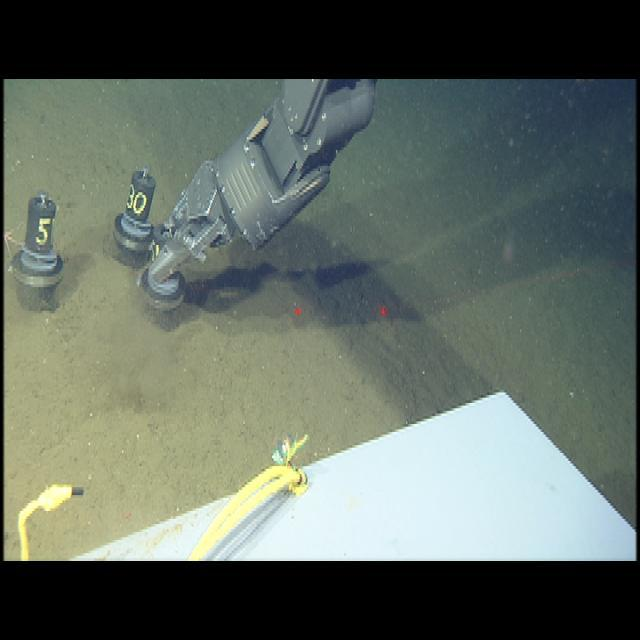Brittle Star: (4, 218, 23, 264)
Not Brittle Star: (164, 84, 372, 273), (9, 190, 68, 314)
